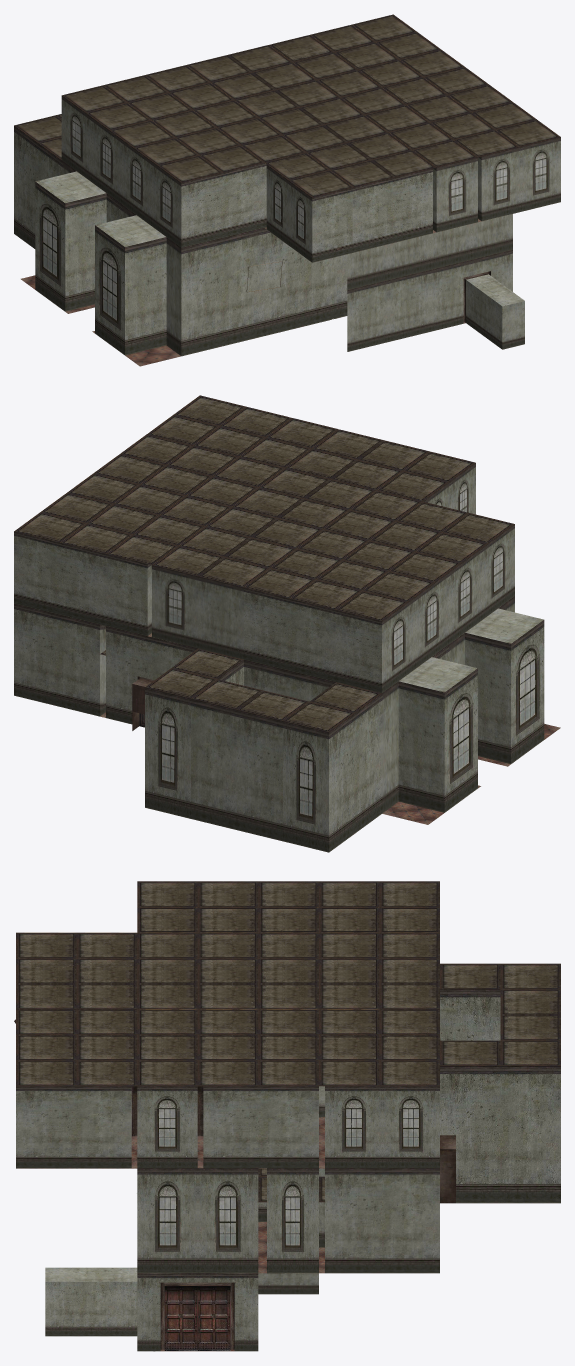
The model's file is Static_Scene (merge).fbx.
The picture shows the model from 3 angles, top to bottom: view 1: azimuth 30°, elevation 25°; view 2: azimuth 150°, elevation 25°; view 3: azimuth 270°, elevation 25°; orthographic projection. The views are drawn at different scales.
Visible parts, largest first — view 1: Object3346; view 2: Object3346; view 3: Object3346.
Boxes of the visible parts, x1,y1,x2,y2 form: Object3346: [14, 14, 560, 366]; Object3346: [14, 395, 560, 852]; Object3346: [14, 881, 560, 1351].
Size of the model in its own units: 39.65 by 21.29 by 39.74.
2 materials, 2 textured.
